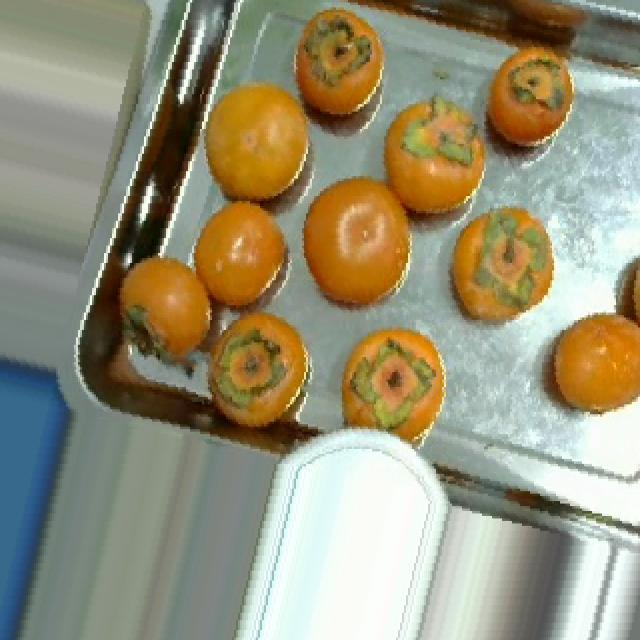Fruit: (62, 233, 230, 397), (284, 156, 432, 335), (188, 60, 332, 223), (434, 191, 572, 345), (188, 298, 326, 447), (328, 310, 460, 464), (278, 0, 404, 156), (178, 184, 304, 338), (472, 35, 588, 176), (534, 293, 640, 434), (606, 233, 640, 352)
